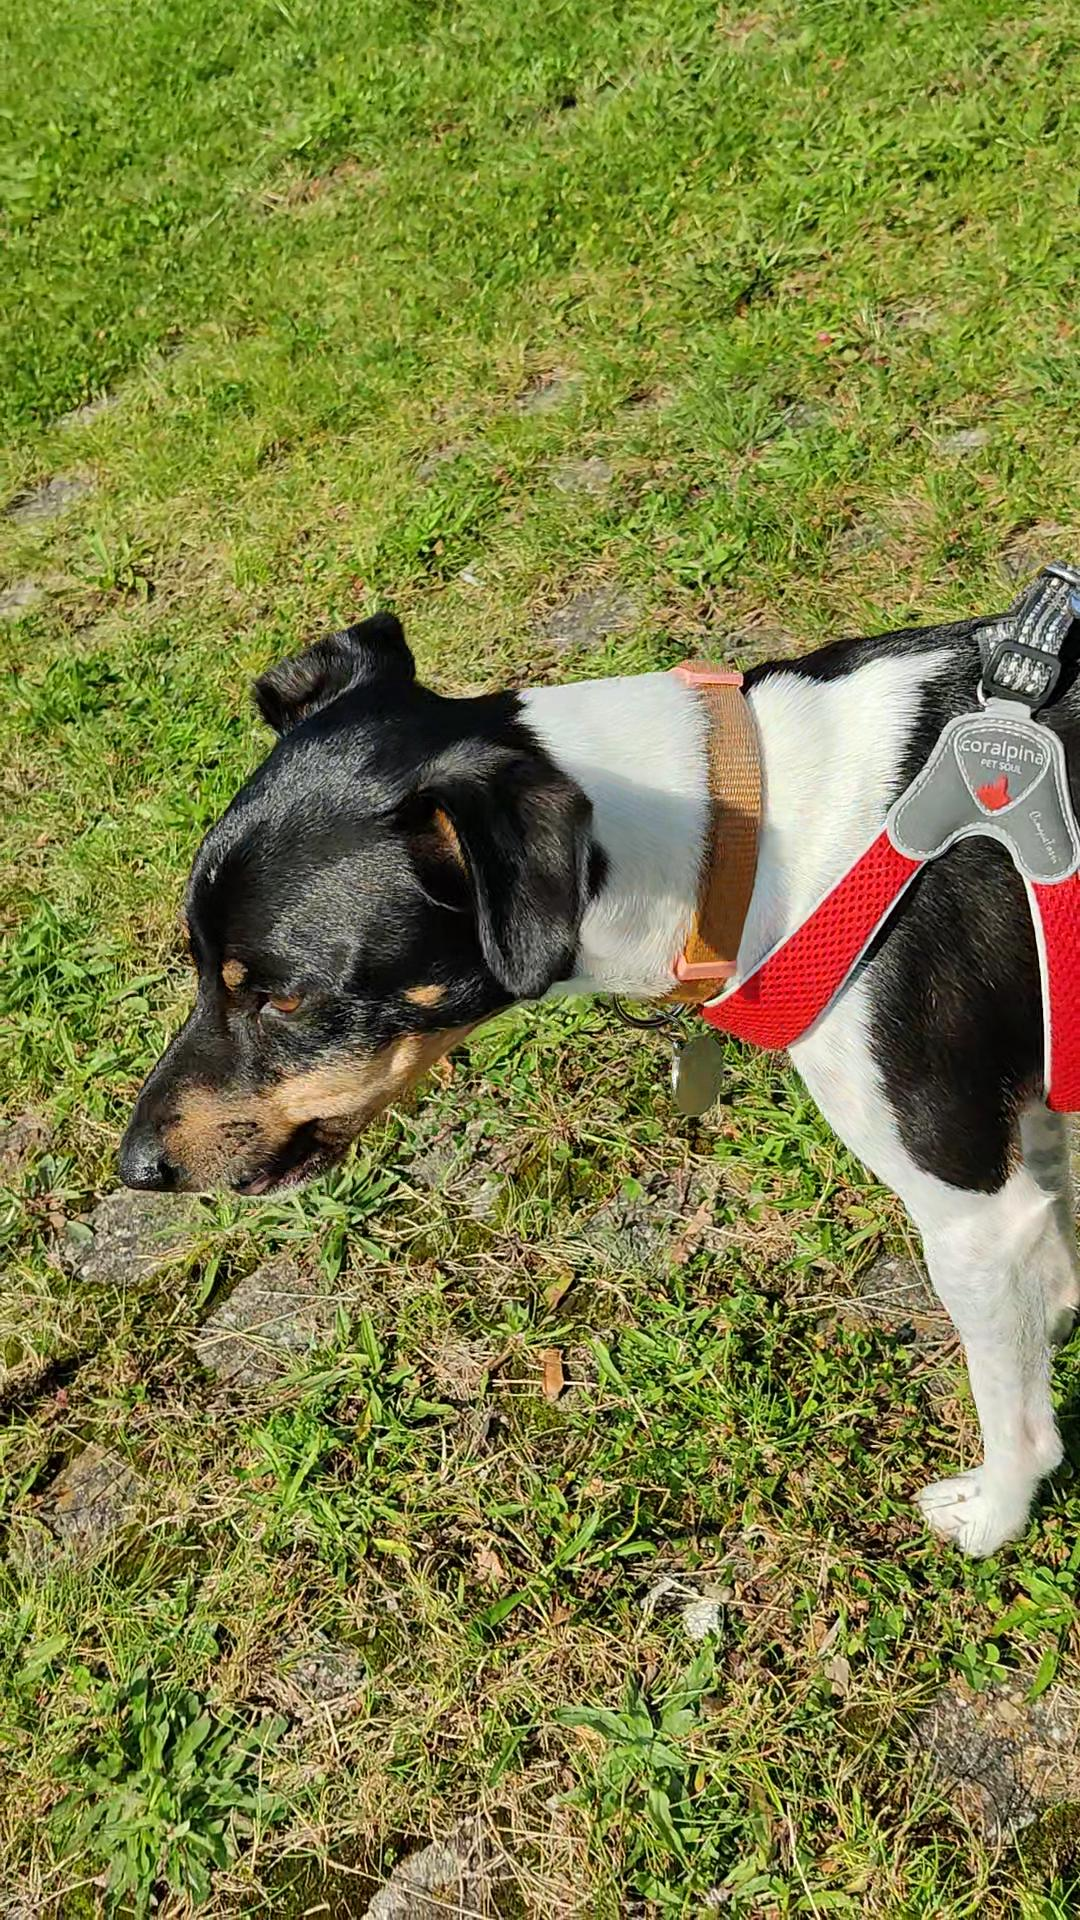Dog: (102, 504, 1079, 1582)
